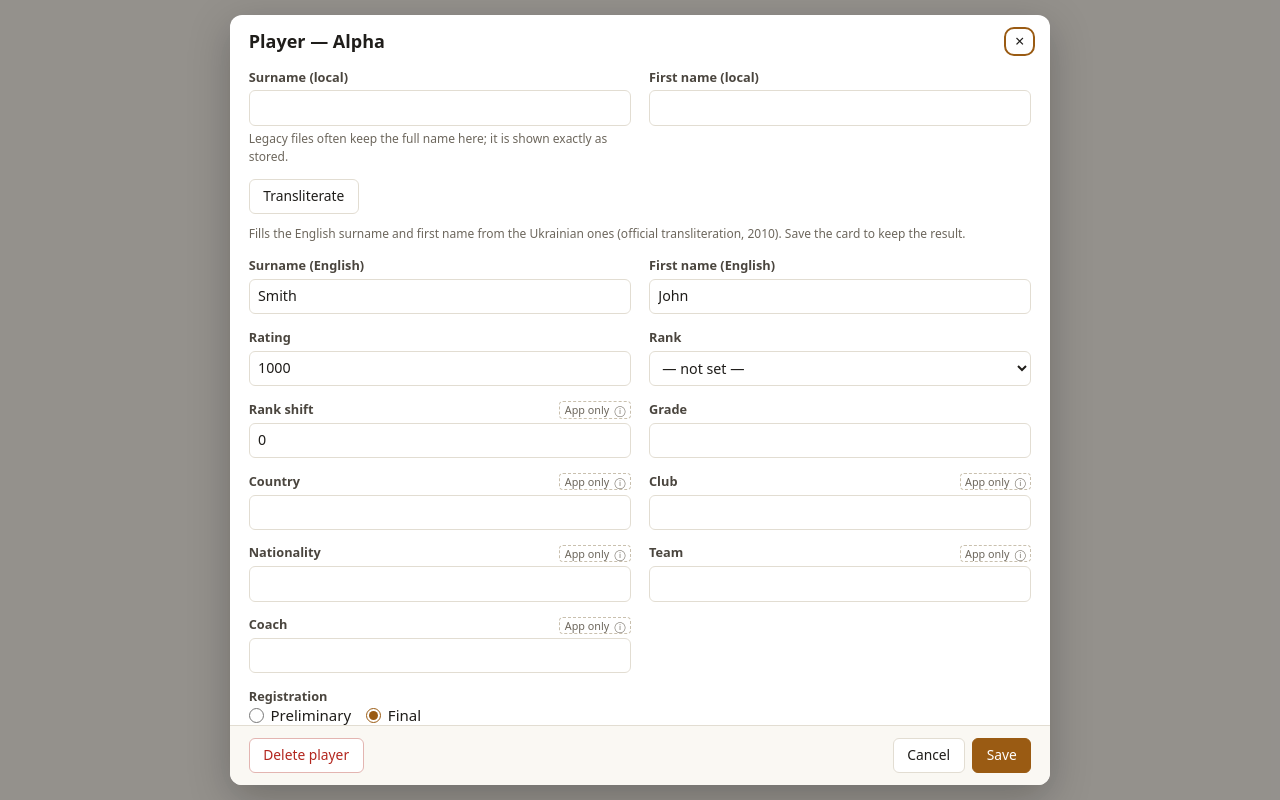
Test: player card transliteration (spec 0003 §4) › explains an empty source and changes nothing
This screenshot has width=1280, height=800.
Click the button "Transliterate" at (304, 196), box x1=249 y1=178 x2=359 y2=214
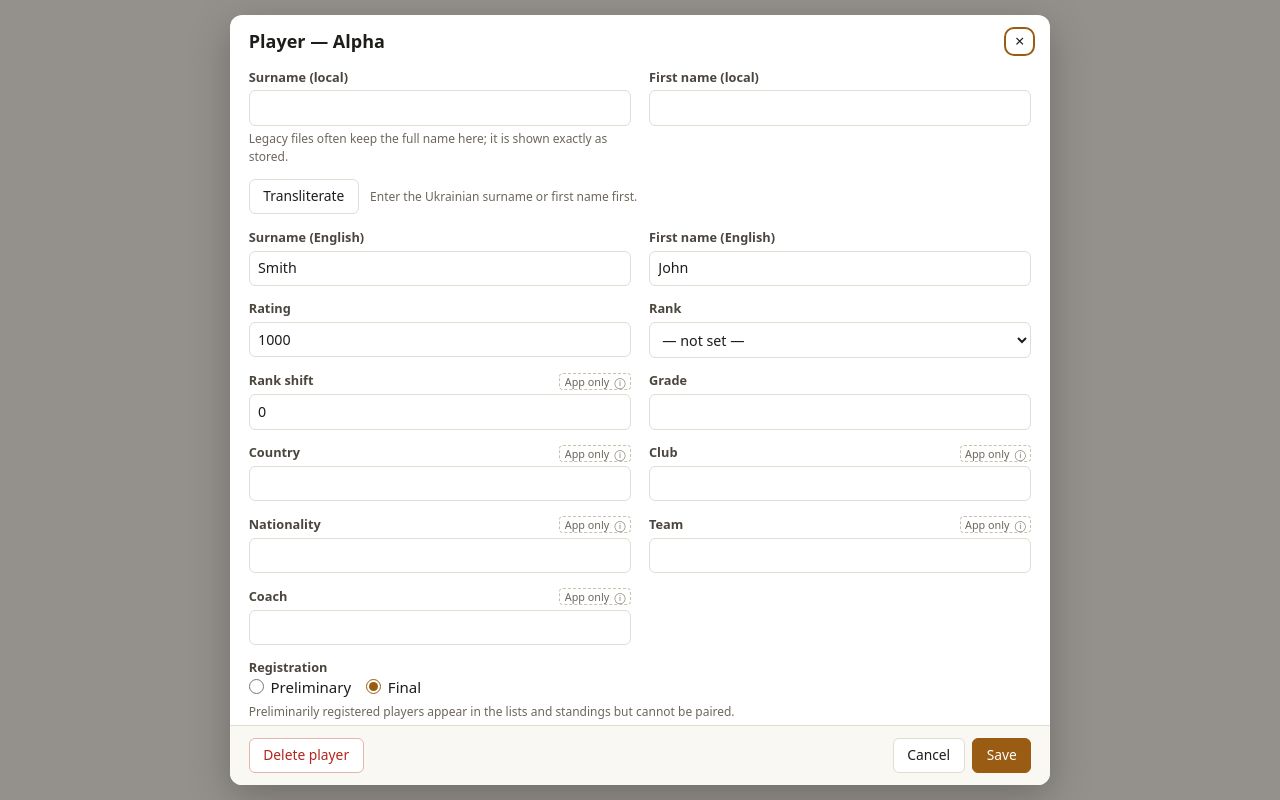
Check: the text "Enter the Ukrainian surname or first name first." is shown, box x1=370 y1=188 x2=637 y2=205
